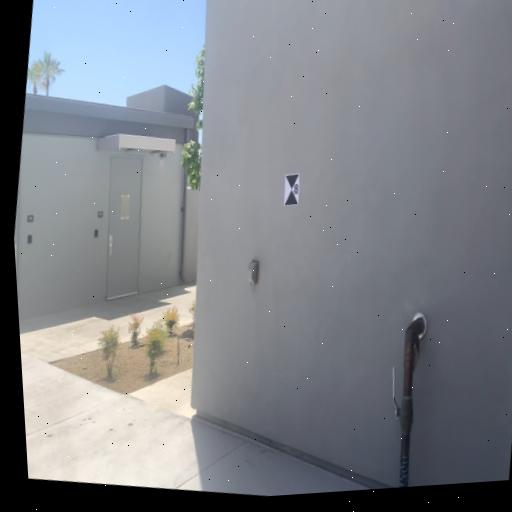target8: (282, 174, 303, 207)
